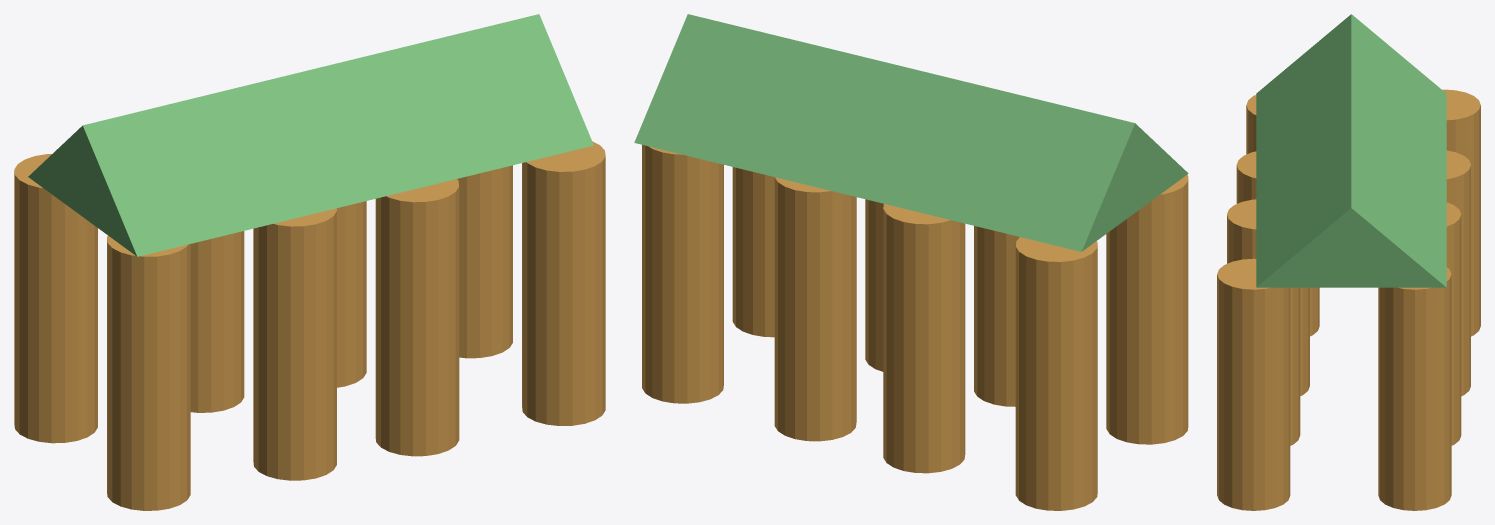
File: acropolis.glb
3 renders of one model, left to right at view 1: azimuth 30°, elevation 25°; view 2: azimuth 150°, elevation 25°; view 3: azimuth 270°, elevation 25°, orthographic. The views are drawn at different scales.
Visible parts, largest first — view 1: Mesh_Mesh_head_geo.001_lambert2SG.001; view 2: Mesh_Mesh_head_geo.001_lambert2SG.001; view 3: Mesh_Mesh_head_geo.001_lambert2SG.001.
Boxes of the visible parts, <box> form: Mesh_Mesh_head_geo.001_lambert2SG.001: <box>14,14,605,510</box>; Mesh_Mesh_head_geo.001_lambert2SG.001: <box>634,14,1188,510</box>; Mesh_Mesh_head_geo.001_lambert2SG.001: <box>1217,14,1480,510</box>.
Bounding box in the file's own units: 97 × 68 × 54.
